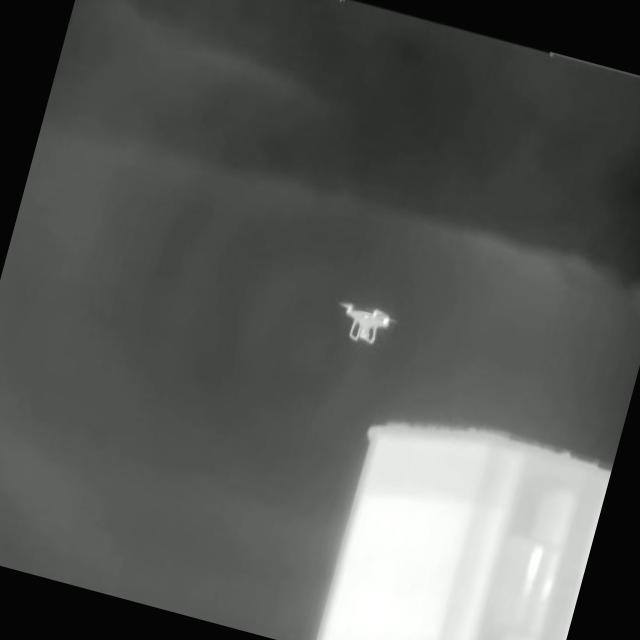DRONE: (330, 297, 401, 346)
